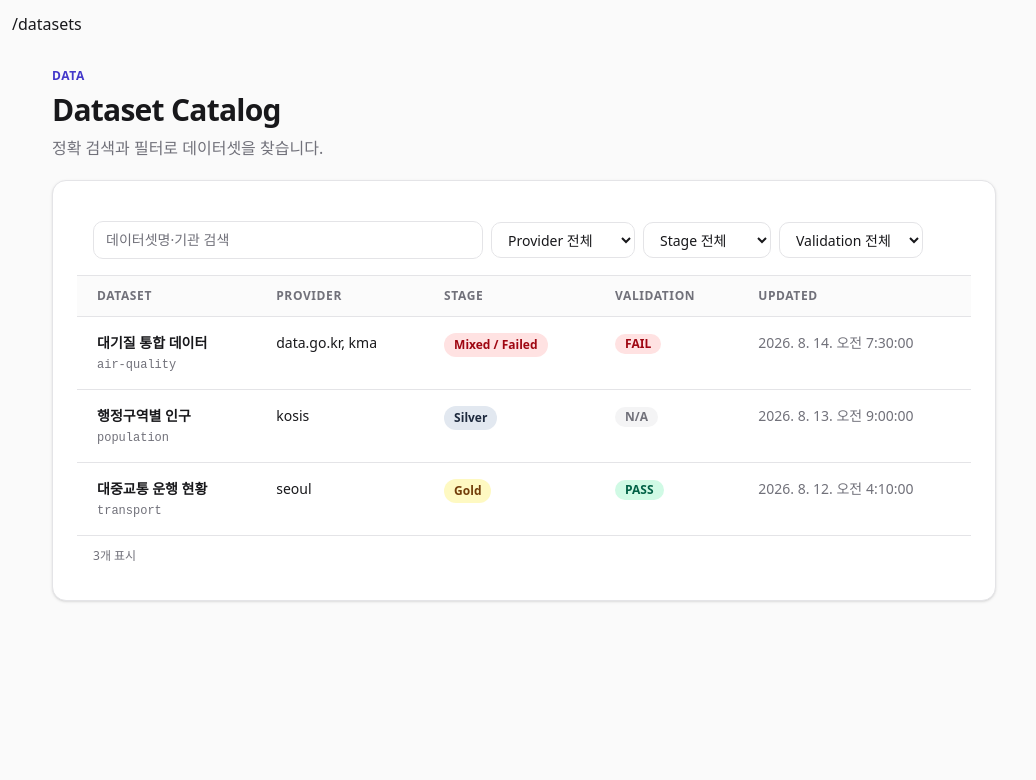
Test: Dataset Catalog P0 (#253) › filters by any provider in a multi-source dataset
Expected: the text "대기질 통합 데이터" is shown, [97,333,207,352]
Select "kma" in the dropdown named "Provider" at coordinates (563, 240), box [491,222,635,258]
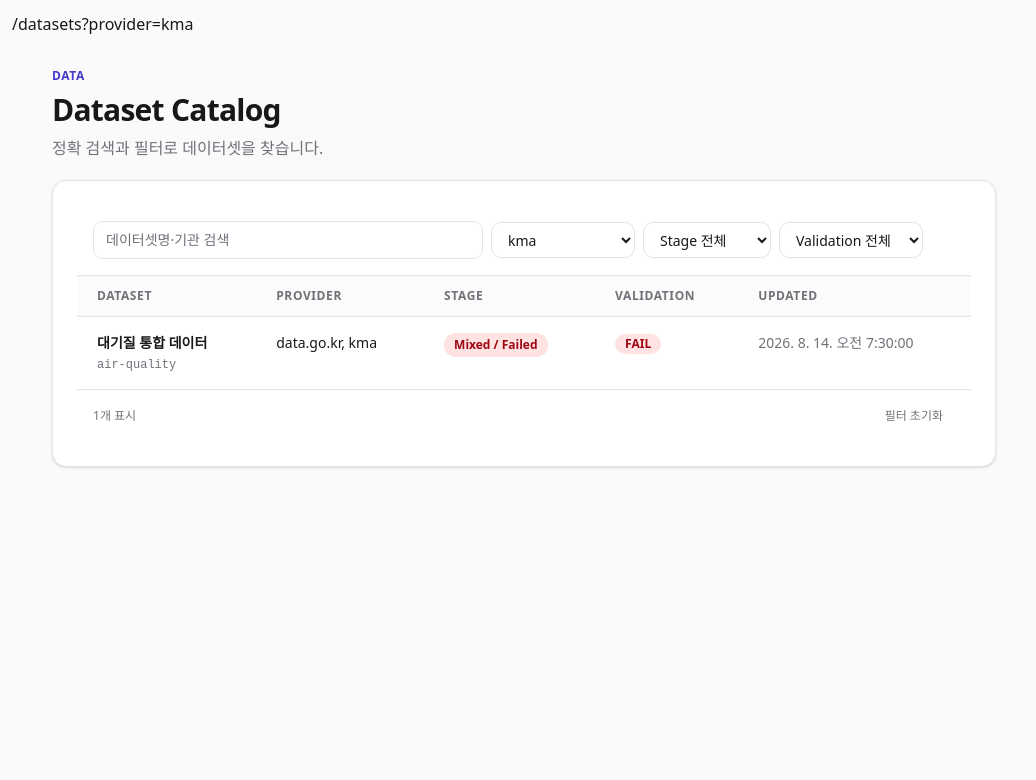
Expected: the text "대기질 통합 데이터" is shown, [97,333,207,352]
Expected: the link "행정구역별 인구" is gone
